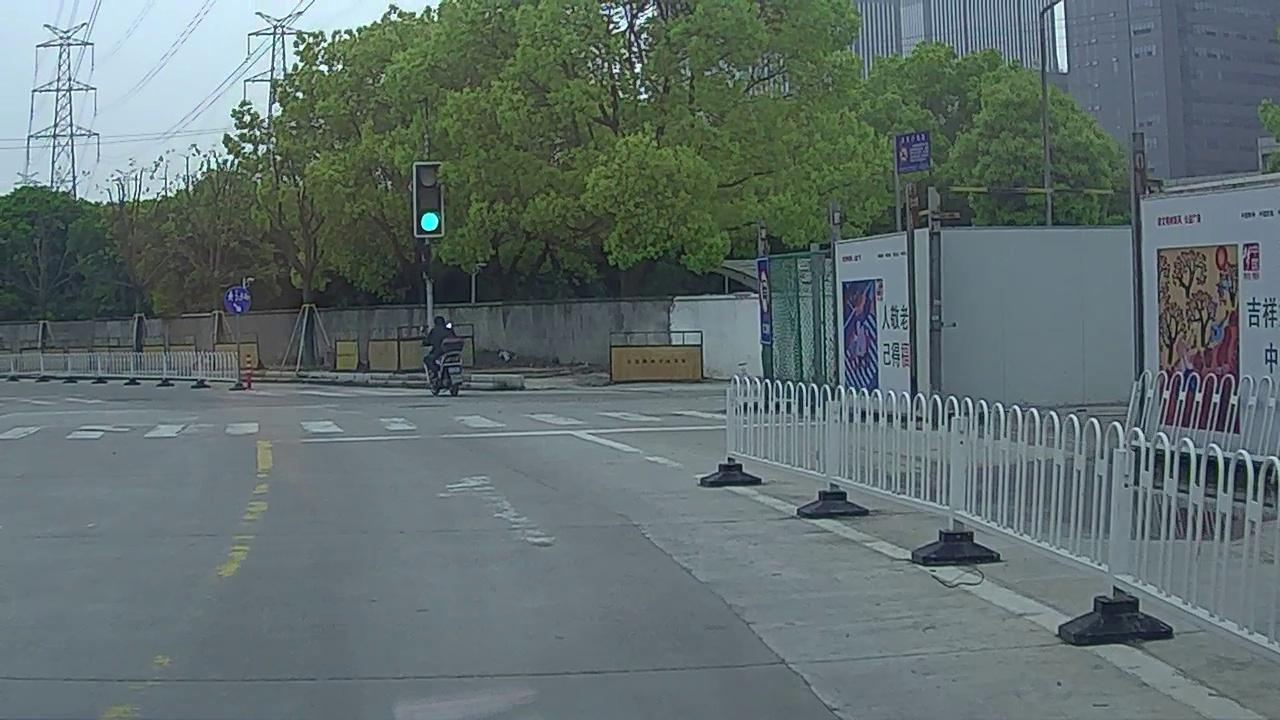traffic_light: (417, 166, 442, 238)
